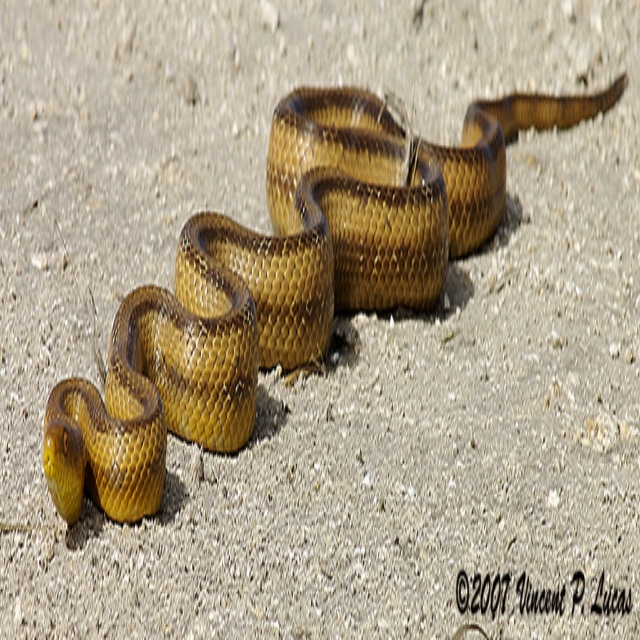Snake: (45, 69, 628, 530)
